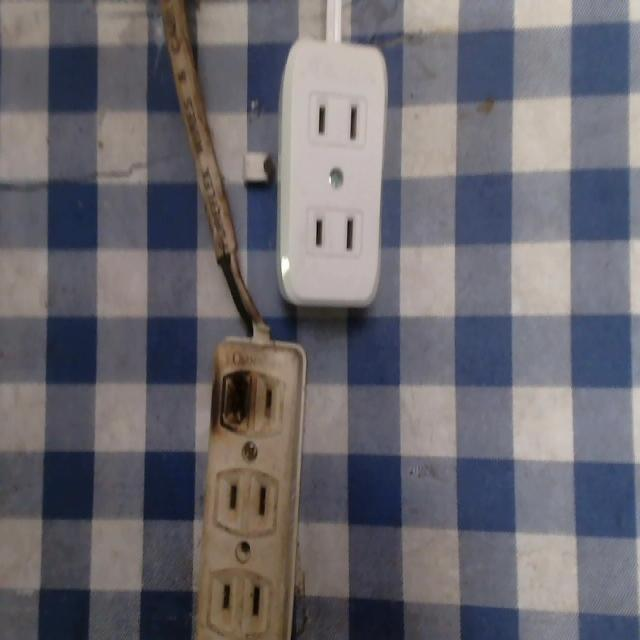-: (216, 364, 263, 440)
